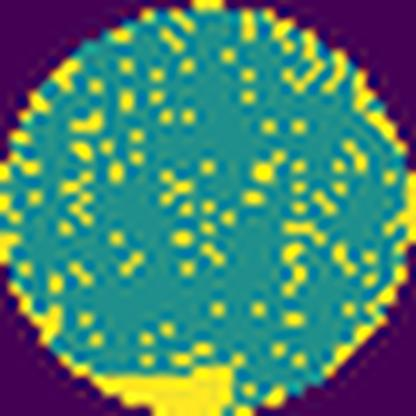Edge-Loc: (58, 355, 242, 416)
